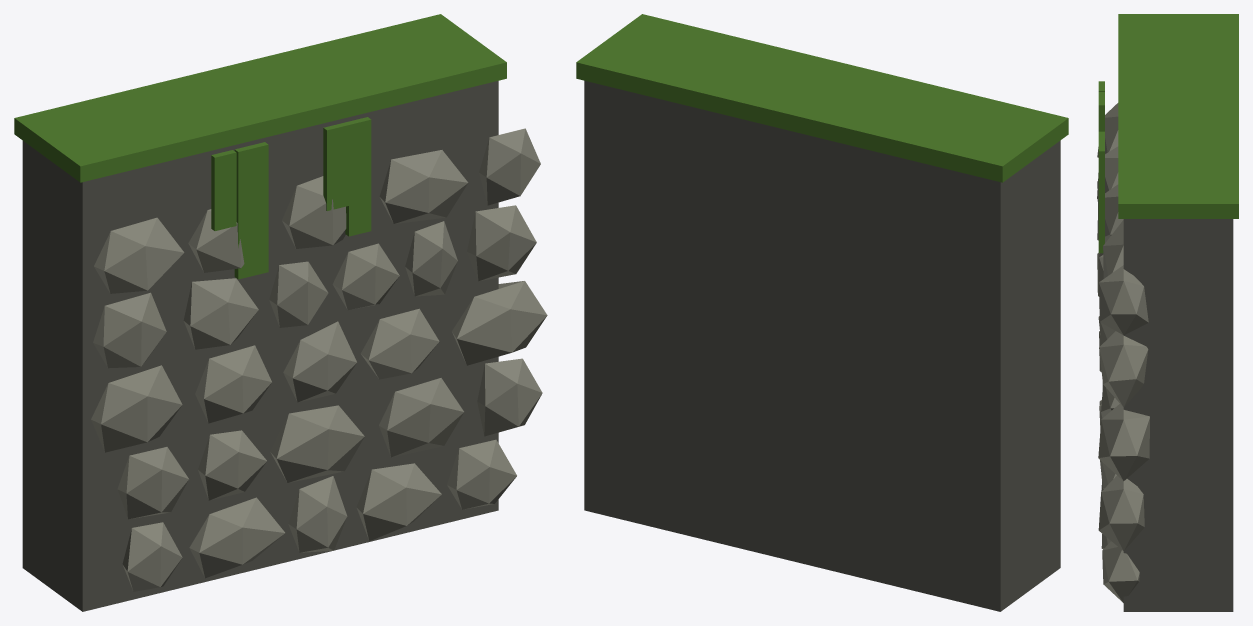
The model's file is rock_wall_straight.glb.
3 views of the same model, side by side, from view 1: azimuth 30°, elevation 25°; view 2: azimuth 150°, elevation 25°; view 3: azimuth 270°, elevation 25° (orthographic). The views are drawn at different scales.
Parts seen in each view (by area): view 1: stone_dark-col, stone, moss-col; view 2: stone_dark-col, moss-col; view 3: stone_dark-col, moss-col, stone.
Part boxes in pixels (<box>): stone_dark-col: <box>22,81,498,611</box>; stone: <box>91,128,547,591</box>; moss-col: <box>14,14,506,279</box>; stone_dark-col: <box>584,80,1060,611</box>; moss-col: <box>576,14,1068,182</box>; stone_dark-col: <box>1123,219,1233,611</box>; moss-col: <box>1098,14,1238,253</box>; stone: <box>1097,103,1149,602</box>.
Bounding box in the file's own units: 4.45 × 4.13 × 1.29.
